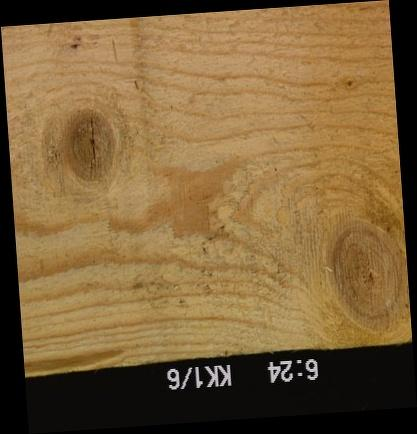small_knot: (342, 76, 356, 90)
sound_knot: (306, 210, 407, 347), (58, 103, 120, 188)
